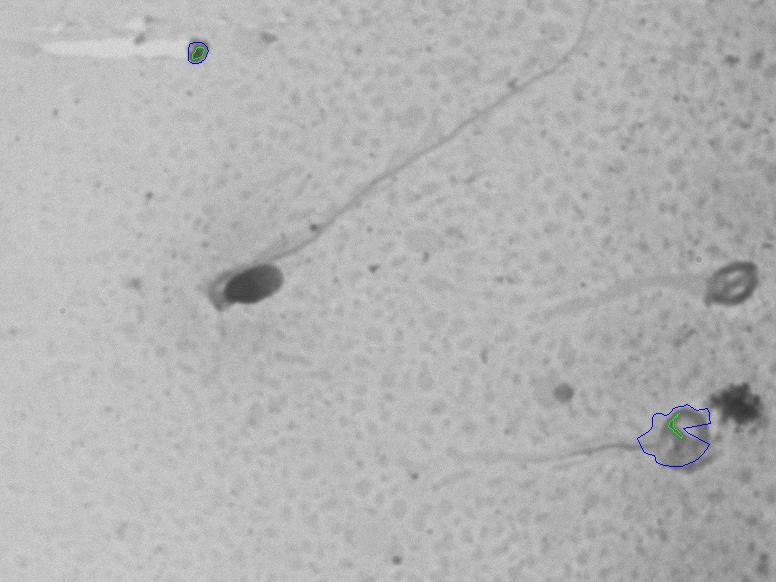Abnormal: (193, 52, 535, 344)
